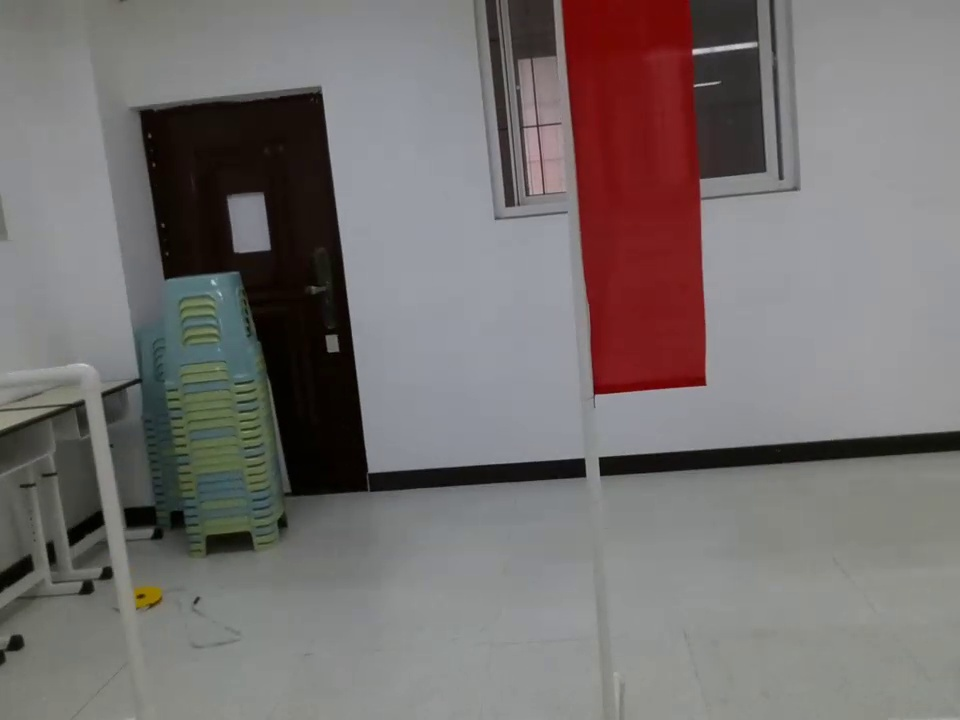qi: (553, 1, 713, 403)
